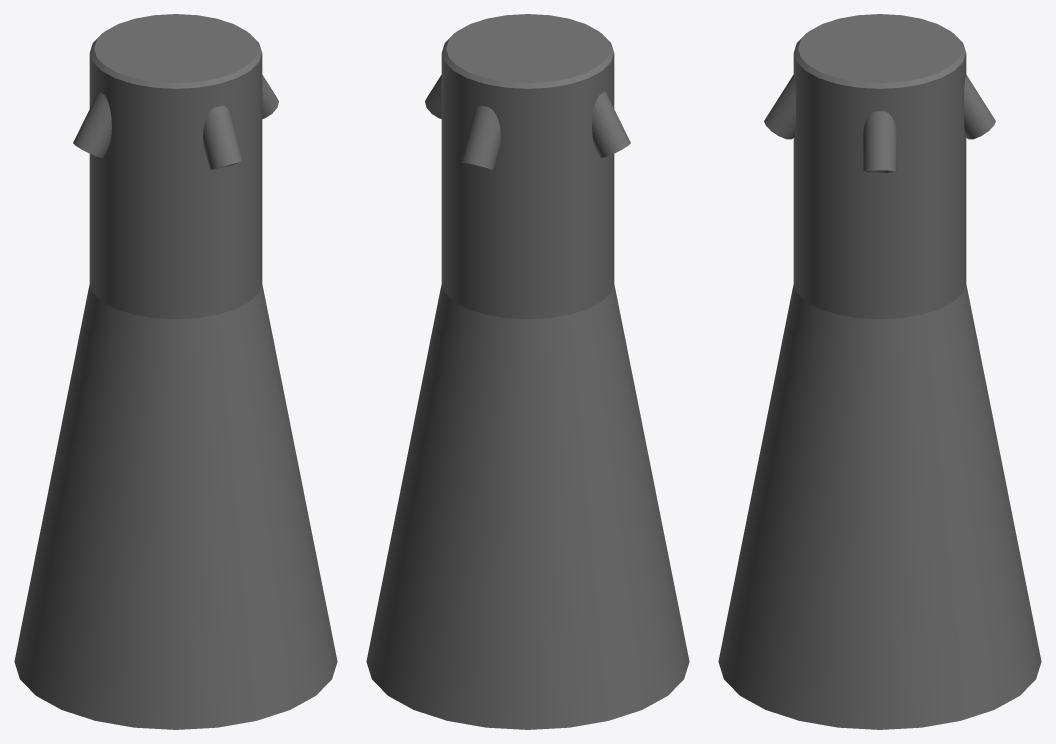
File: Alnair_Engine_1.obj
The picture shows the model from 3 angles, left to right: view 1: azimuth 30°, elevation 25°; view 2: azimuth 150°, elevation 25°; view 3: azimuth 270°, elevation 25°; orthographic projection.
Visible parts, largest first — view 1: Alnair_Engine_1; view 2: Alnair_Engine_1; view 3: Alnair_Engine_1.
Boxes of the visible parts, x1=… form: Alnair_Engine_1: x1=14, y1=14, x2=337, y2=729; Alnair_Engine_1: x1=366, y1=14, x2=689, y2=729; Alnair_Engine_1: x1=718, y1=14, x2=1041, y2=729.
Bounding box in the file's own units: 0.9375 × 1.96 × 0.9375.
